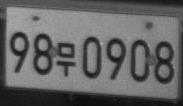0: (81, 35, 102, 78), (130, 38, 150, 82)
8: (153, 40, 175, 84), (32, 32, 53, 75)
9: (105, 36, 127, 80), (9, 30, 30, 74)
무: (56, 42, 76, 77)
